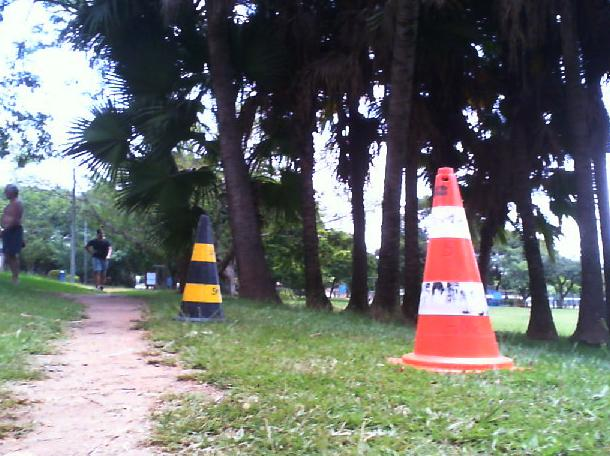0 cone: (384, 167, 521, 370), (175, 214, 227, 323)
